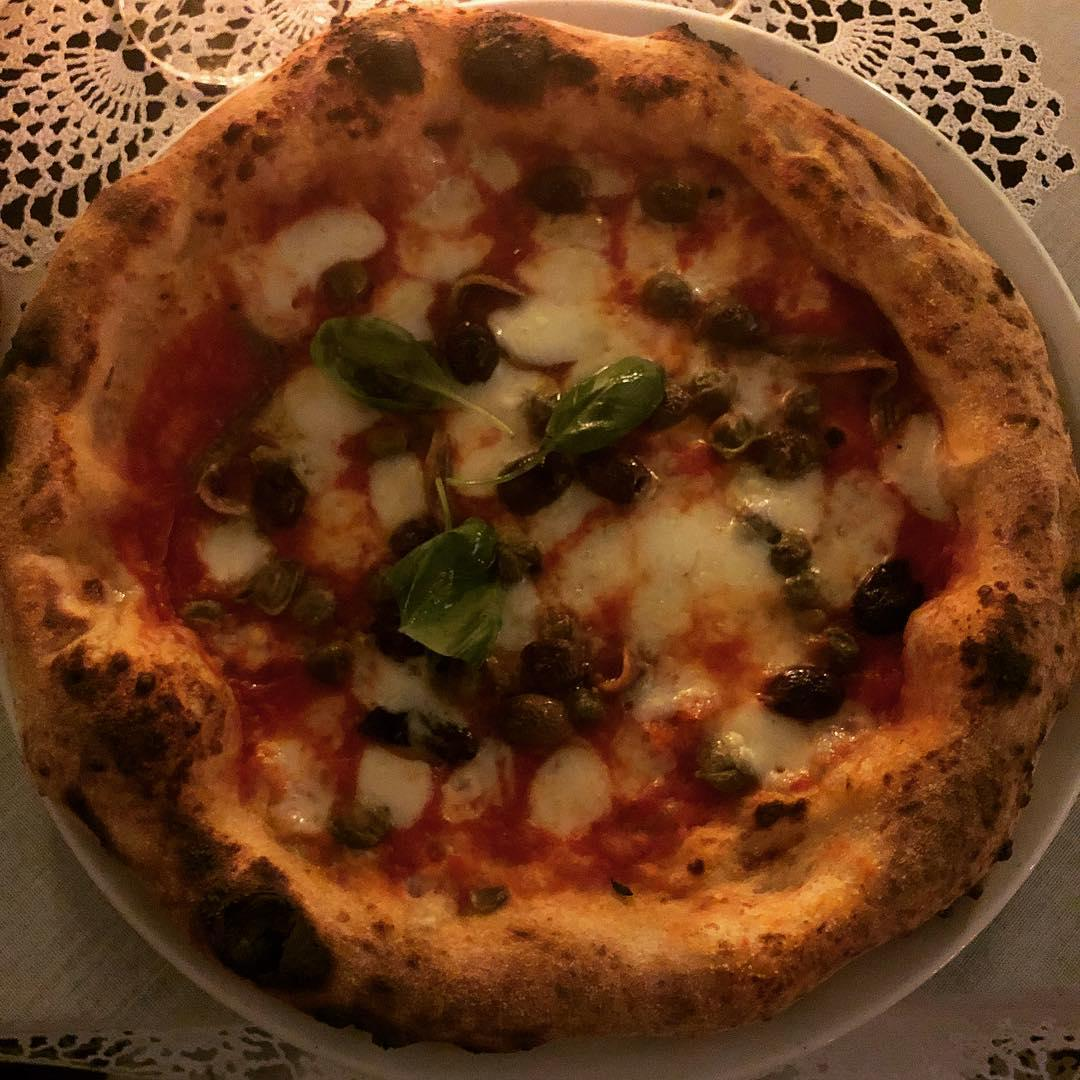Basil: (440, 355, 670, 494), (368, 472, 513, 673), (307, 311, 517, 442)
Olives: (848, 549, 930, 642), (752, 663, 849, 729), (574, 440, 654, 507), (497, 450, 574, 519), (254, 451, 309, 529), (440, 317, 501, 386)
Pizza: (0, 10, 1080, 1048)
